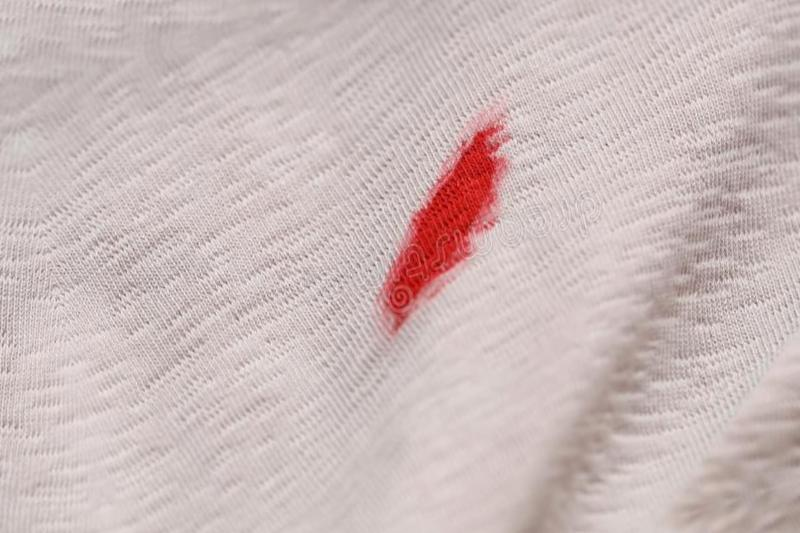stain: (376, 109, 525, 337)
